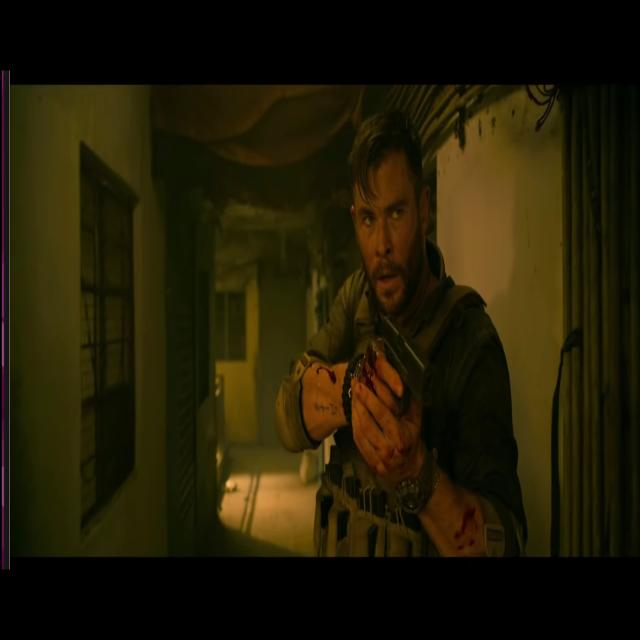weapons: (362, 299, 427, 439)
